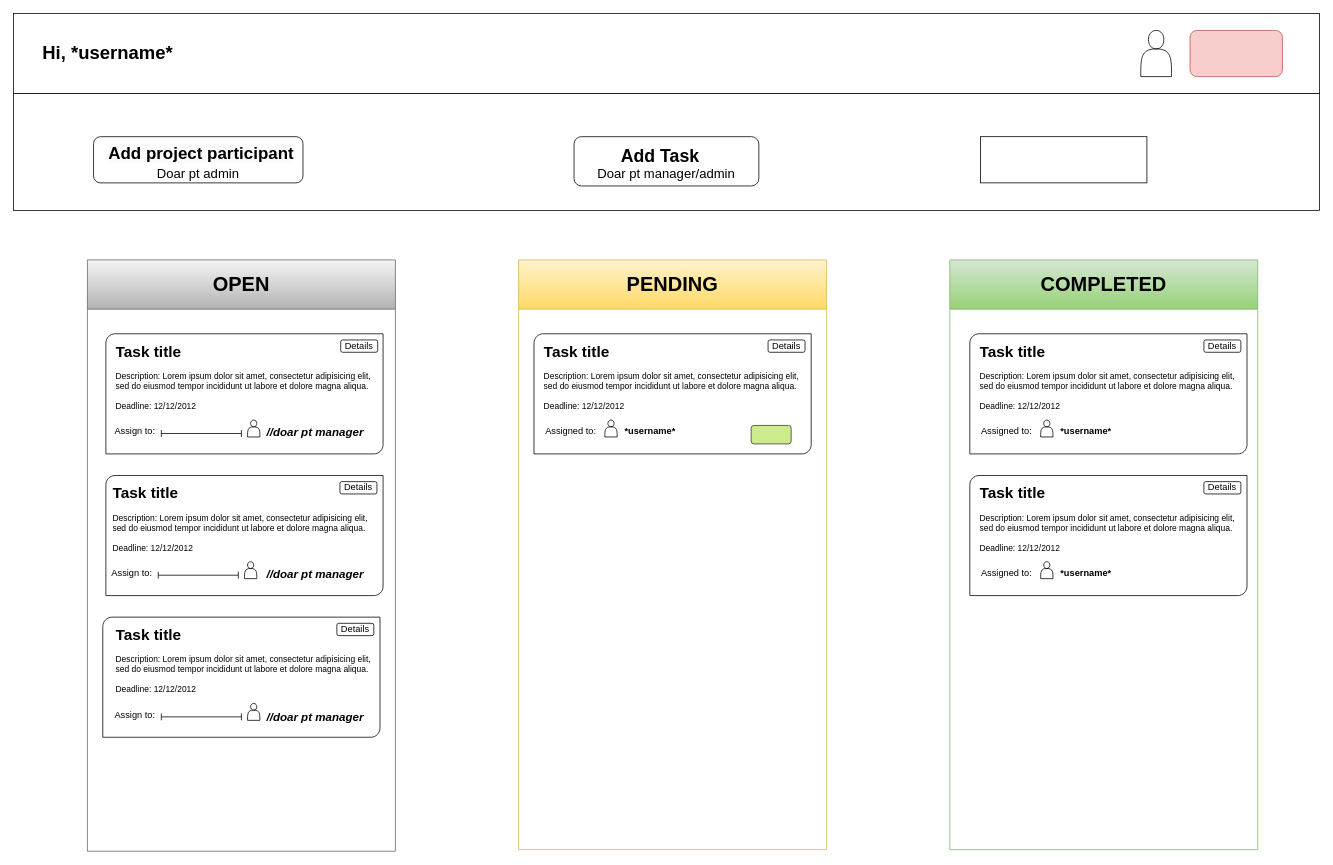
Image size: 1333x865. Some labels were removed from this diagram. The shapes that lost their labels are listed below. From the top down, each one's centre as x and y in pixels, then its label:
[1235,53]: Log Out
[1063,159]: Istoric Taskuri
[770,434]: Done
